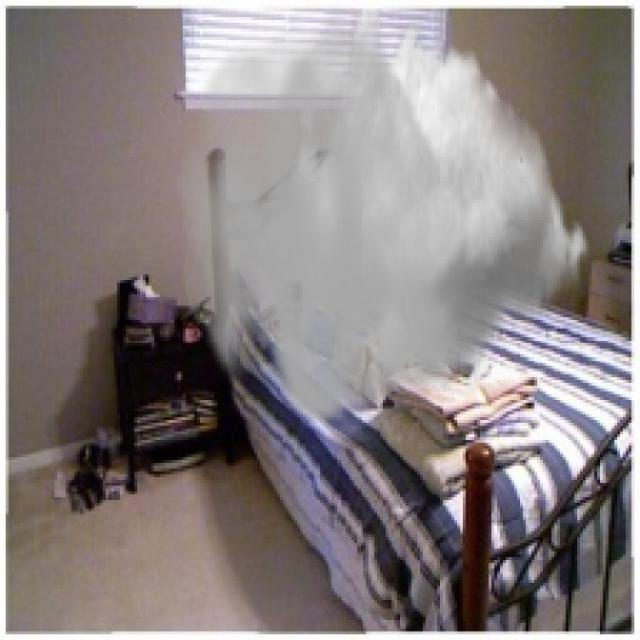smoke: (177, 9, 592, 428)
